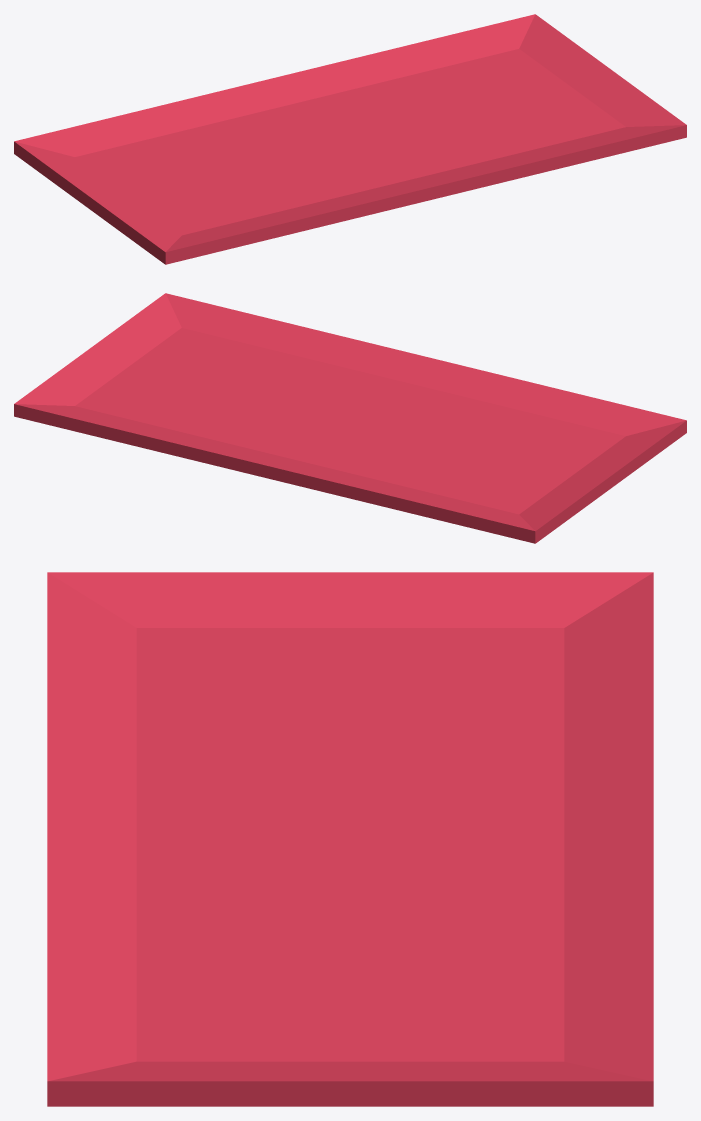
The model's file is Itr_Obj_dish4_03.FBX.
3 views of the same model, one above another, from view 1: azimuth 30°, elevation 25°; view 2: azimuth 150°, elevation 25°; view 3: azimuth 270°, elevation 25° (orthographic). The views are drawn at different scales.
Parts seen in each view (by area): view 1: Itr_Obj_dish4_03; view 2: Itr_Obj_dish4_03; view 3: Itr_Obj_dish4_03.
Boxes of the visible parts, x1,y1,x2,y2 form: Itr_Obj_dish4_03: (14,14,686,264); Itr_Obj_dish4_03: (14,293,686,543); Itr_Obj_dish4_03: (47,572,653,1106).
Bounding box in the file's own units: 23.87 × 0.9383 × 12.01.
